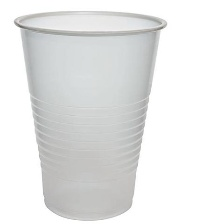glass: (9, 6, 170, 224)
